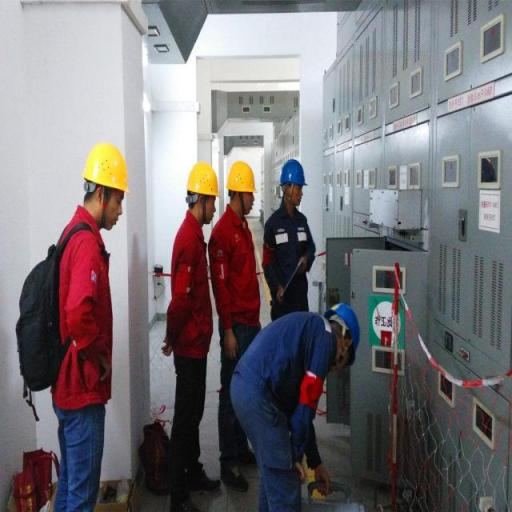helmet: (80, 136, 130, 194), (330, 299, 362, 367), (186, 158, 220, 198), (226, 158, 258, 194), (277, 158, 309, 188)
